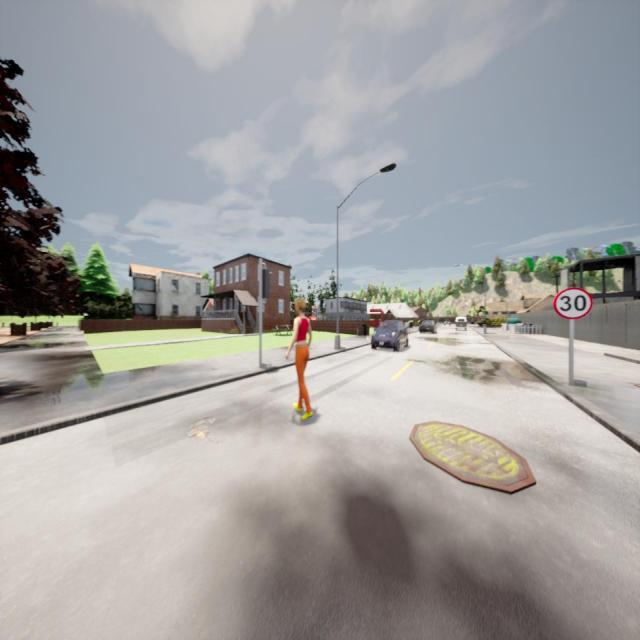Pedestrian: (286, 299, 312, 419)
Traffic_Signs: (553, 288, 593, 319)
Vehicle: (372, 320, 408, 352), (419, 320, 437, 334), (454, 316, 467, 331), (444, 320, 451, 326)
traffic_light: (262, 269, 271, 298)
